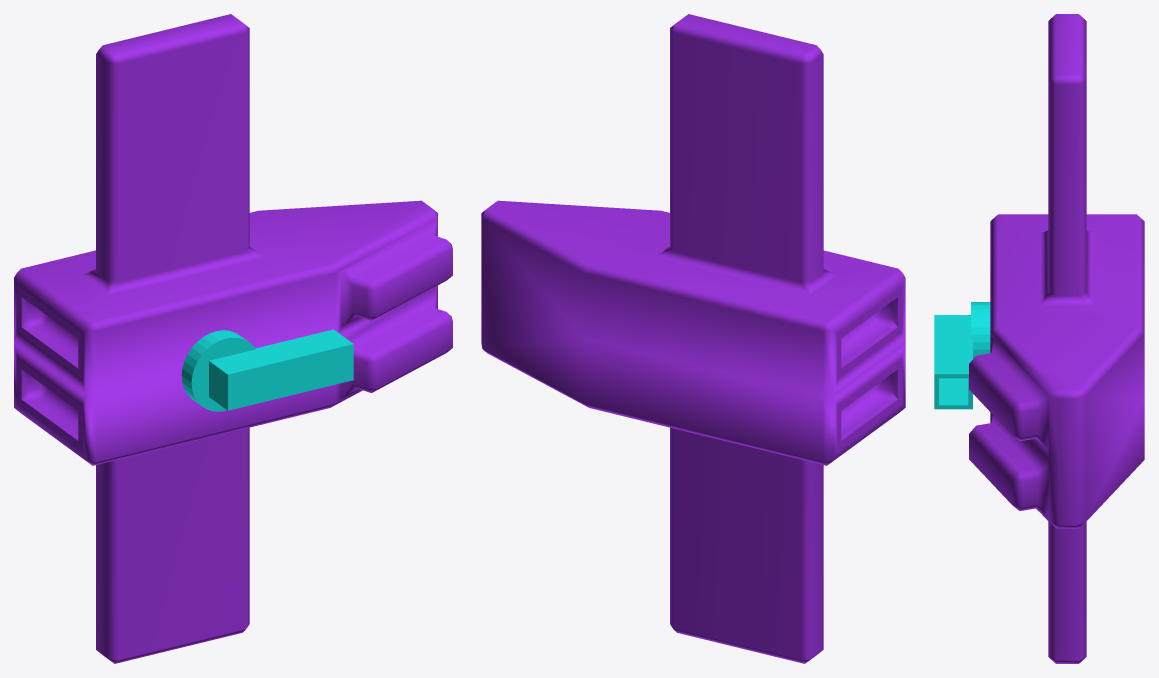
The model's file is gnat2.glb.
The picture shows the model from 3 angles, left to right: view 1: azimuth 30°, elevation 25°; view 2: azimuth 150°, elevation 25°; view 3: azimuth 270°, elevation 25°; orthographic projection. The views are drawn at different scales.
Visible parts, largest first — view 1: Cube, Cube.001; view 2: Cube; view 3: Cube, Cube.001.
Boxes of the visible parts, x1=… form: Cube: x1=14, y1=14, x2=452, y2=663; Cube.001: x1=181, y1=329, x2=353, y2=411; Cube: x1=481, y1=14, x2=905, y2=663; Cube: x1=969, y1=14, x2=1144, y2=663; Cube.001: x1=934, y1=302, x2=990, y2=409.
Size of the model in its own units: 5.56 by 8.44 by 2.73.
